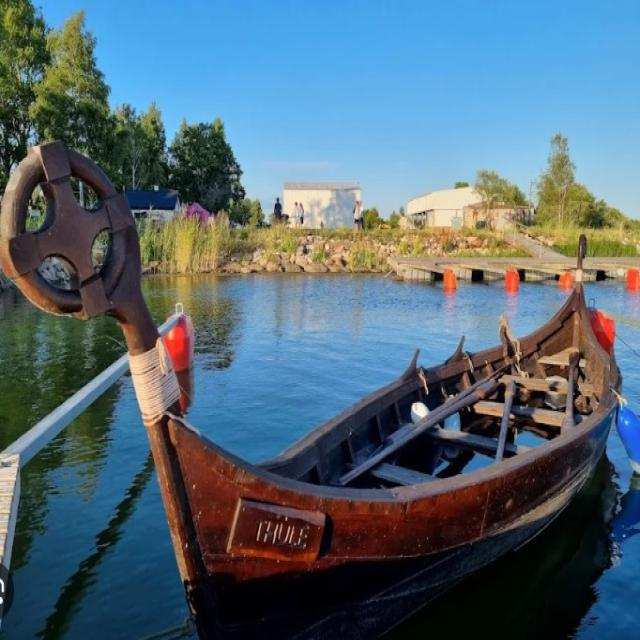boat: (0, 87, 624, 640)
